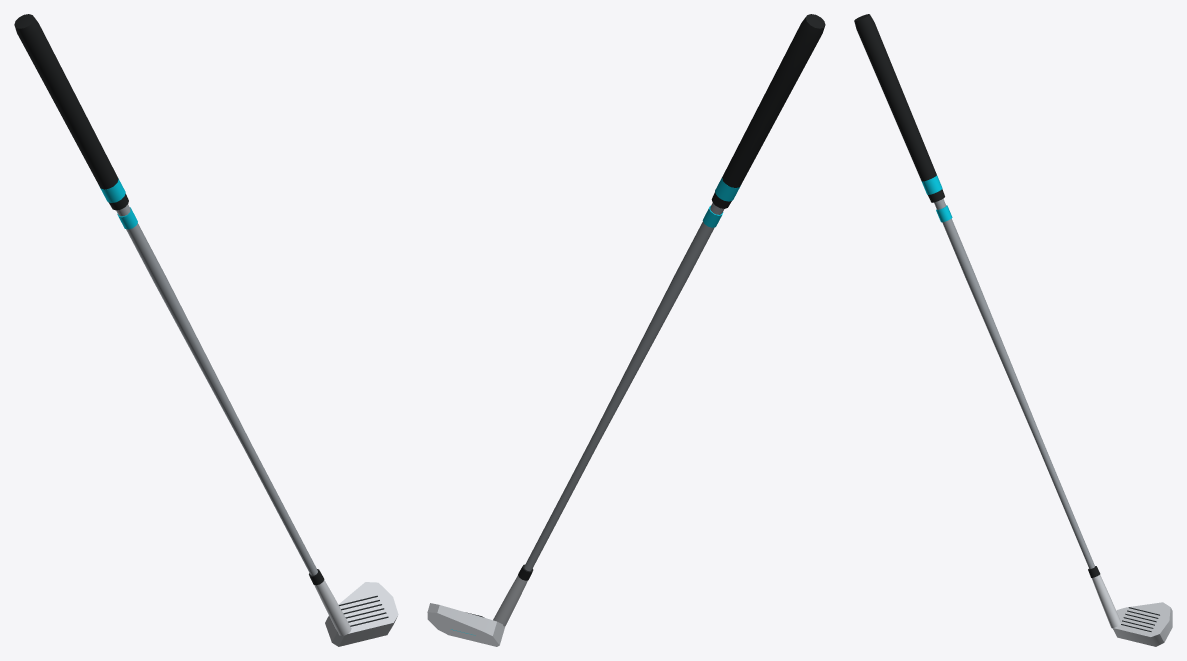
Rendered from Display_Club_Wedge.fbx.
3 views of the same model, side by side, from view 1: azimuth 30°, elevation 25°; view 2: azimuth 150°, elevation 25°; view 3: azimuth 330°, elevation 25° (orthographic). The views are drawn at different scales.
Parts seen in each view (by area): view 1: Display_Club_Wedge; view 2: Display_Club_Wedge; view 3: Display_Club_Wedge.
Part boxes in pixels (x1=…): Display_Club_Wedge: x1=14, y1=14, x2=398, y2=646; Display_Club_Wedge: x1=427, y1=14, x2=825, y2=646; Display_Club_Wedge: x1=854, y1=14, x2=1172, y2=646.
Bounding box in the file's own units: 0.4765 × 0.8369 × 0.0587.
